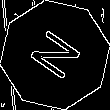N_SE: (23, 24, 87, 86)
